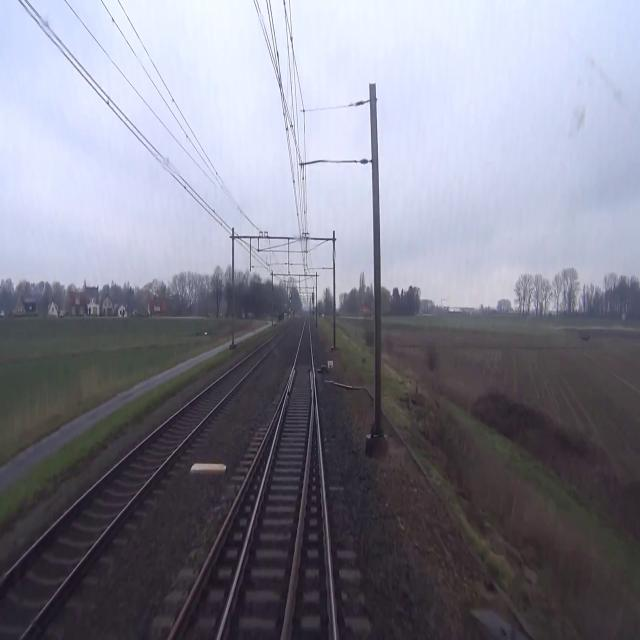rail-track: (0, 328, 287, 639), (221, 318, 312, 639), (172, 411, 279, 639), (286, 407, 332, 639)
